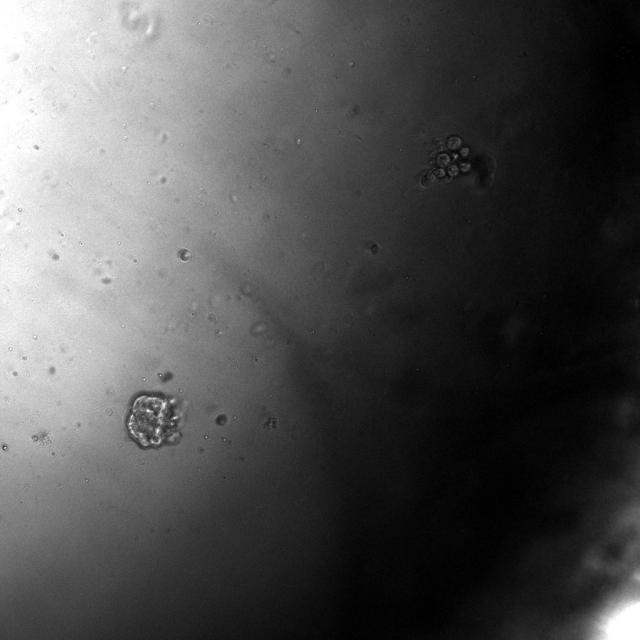organoid: (418, 133, 497, 192), (124, 393, 180, 448), (178, 248, 192, 262), (216, 414, 228, 425)
